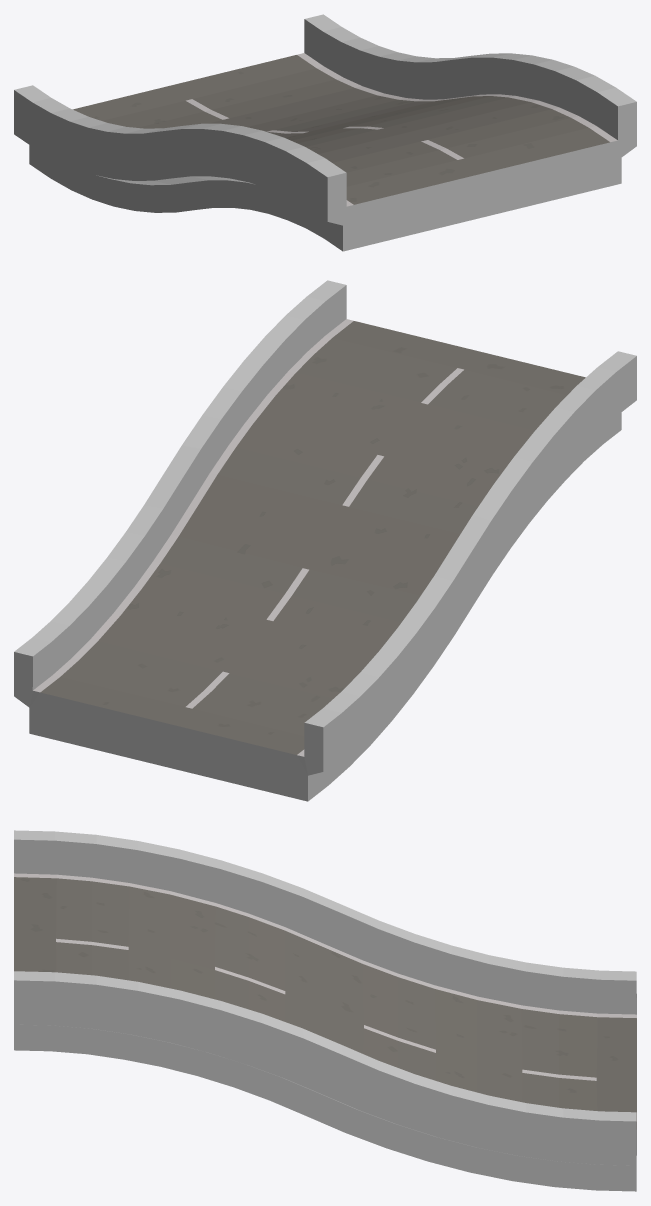
File: SM_Env_Road_Highway_Ramp_01.fbx
3 renders of one model, top to bottom at view 1: azimuth 30°, elevation 25°; view 2: azimuth 150°, elevation 25°; view 3: azimuth 270°, elevation 25°, orthographic.
Parts seen in each view (by area): view 1: SM_Env_Road_Highway_Ramp_01; view 2: SM_Env_Road_Highway_Ramp_01; view 3: SM_Env_Road_Highway_Ramp_01.
Part boxes in pixels (x1=…): SM_Env_Road_Highway_Ramp_01: x1=14, y1=14, x2=636, y2=251; SM_Env_Road_Highway_Ramp_01: x1=14, y1=280, x2=636, y2=801; SM_Env_Road_Highway_Ramp_01: x1=14, y1=830, x2=636, y2=1191.
Bounding box in the file's own units: 1140 × 775 × 2001.
